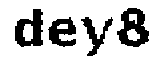8: (117, 6, 151, 51)
d: (12, 6, 45, 53)
e: (47, 18, 79, 49)
y: (80, 14, 112, 59)
